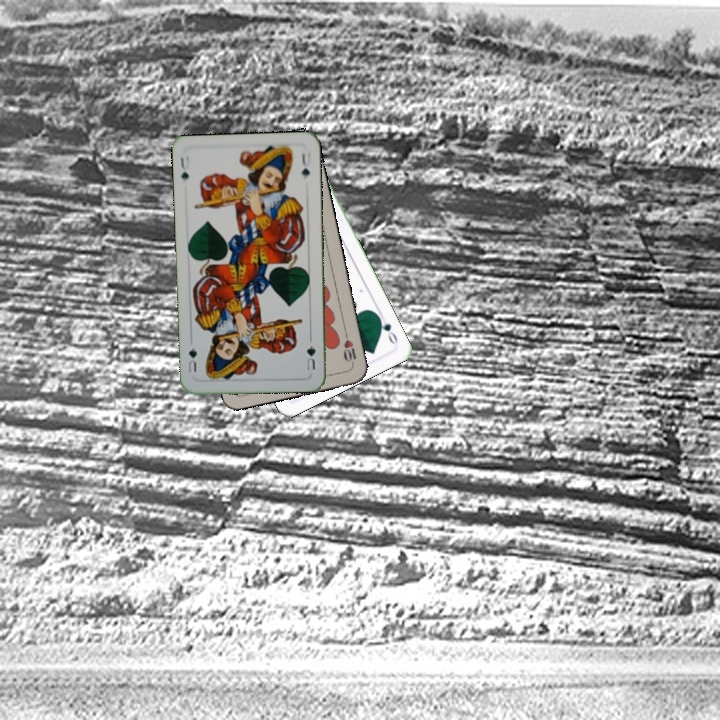GO: (373, 309, 400, 347)
GU: (176, 151, 192, 183), (303, 341, 318, 374)
H10: (339, 328, 359, 368)
